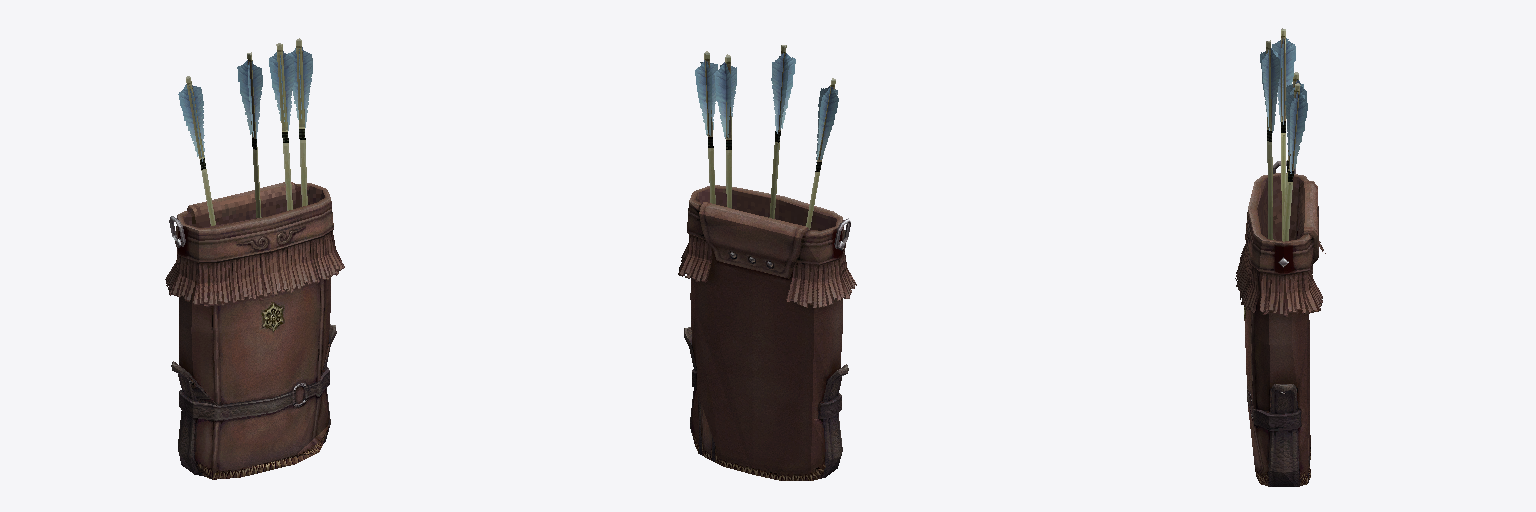
3 renders of one model, left to right at view 1: azimuth 30°, elevation 25°; view 2: azimuth 150°, elevation 25°; view 3: azimuth 270°, elevation 25°, orthographic.
Visible parts, largest first — view 1: Polygon_44; view 2: Polygon_44; view 3: Polygon_44.
Boxes of the visible parts, <box> form: Polygon_44: <box>165,38,344,479</box>; Polygon_44: <box>678,45,856,480</box>; Polygon_44: <box>1235,28,1325,486</box>.
Size of the model in its own units: 0.2607 by 0.6155 by 0.1236.
Materials: 1 (1 with a texture image).